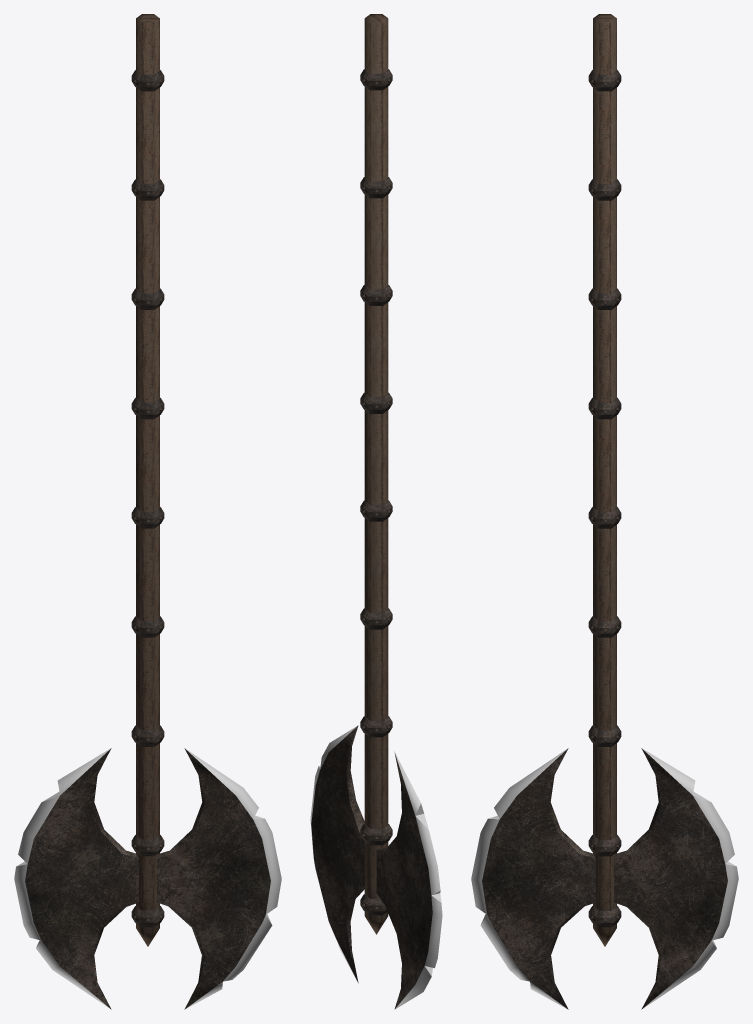
Rendered from Axe.FBX.
3 renders of one model, left to right at view 1: azimuth 90°, elevation 25°; view 2: azimuth 210°, elevation 25°; view 3: azimuth 270°, elevation 25°, orthographic.
Parts seen in each view (by area): view 1: Axe; view 2: Axe; view 3: Axe.
Boxes of the visible parts, bbox=[...] form: Axe: bbox=[14, 14, 281, 1009]; Axe: bbox=[310, 14, 442, 1009]; Axe: bbox=[471, 14, 738, 1009].
Size of the model in its own units: 27.4 by 908 by 222.
